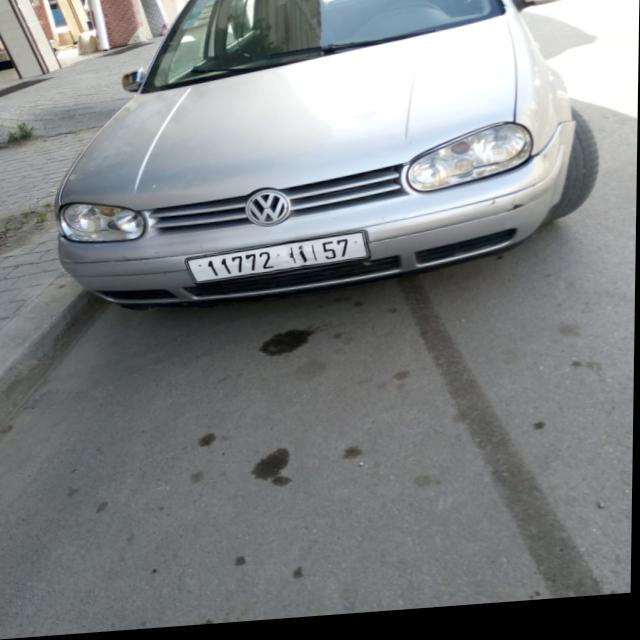License-Plate: (187, 237, 370, 286)
